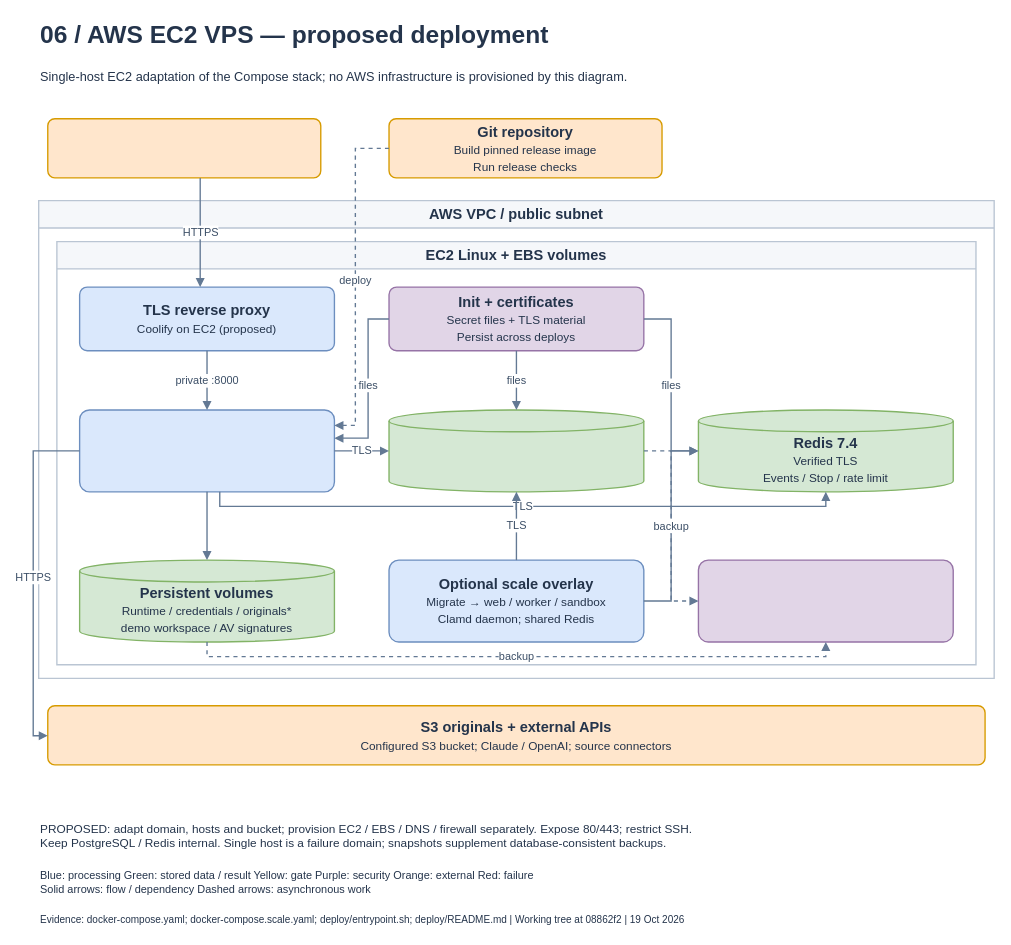
Some shapes in this 1011 by 945 pixel diagram are drawn without their labels. Here are the shapes that lost their labels. From the top down, the centre of each, then its label:
At [184,148]: "Browser / API clients Public HTTPS".
At [207,450]: "Django app :8000 Default: web + migrations and background lanes".
At [516,450]: "PostgreSQL 16 Verified TLS; runtime role Durable DB + graph + jobs".
At [825,600]: "Backup + restore plan DB dump + persistent volumes EBS snapshots".
